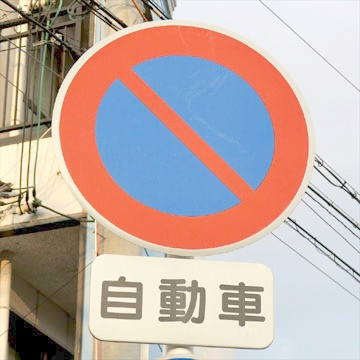Prohibition_sign: (43, 16, 321, 270)
